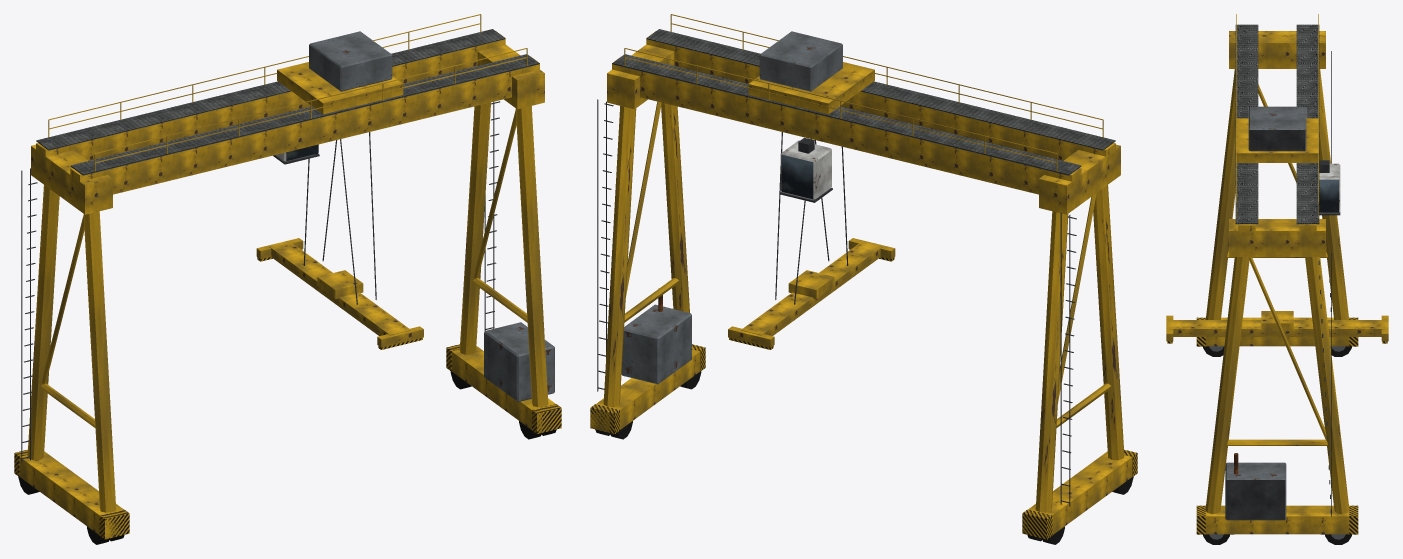
File: c_rtg.glb
3 renders of one model, left to right at view 1: azimuth 30°, elevation 25°; view 2: azimuth 150°, elevation 25°; view 3: azimuth 270°, elevation 25°, orthographic. The views are drawn at different scales.
Visible parts, largest first — view 1: c_rtg; view 2: c_rtg; view 3: c_rtg.
Boxes of the visible parts, bbox=[...] form: c_rtg: bbox=[14, 14, 561, 544]; c_rtg: bbox=[590, 14, 1137, 544]; c_rtg: bbox=[1166, 14, 1388, 544].
Size of the model in its own units: 27.27 by 21.87 by 12.4.
1 material, 1 textured.
